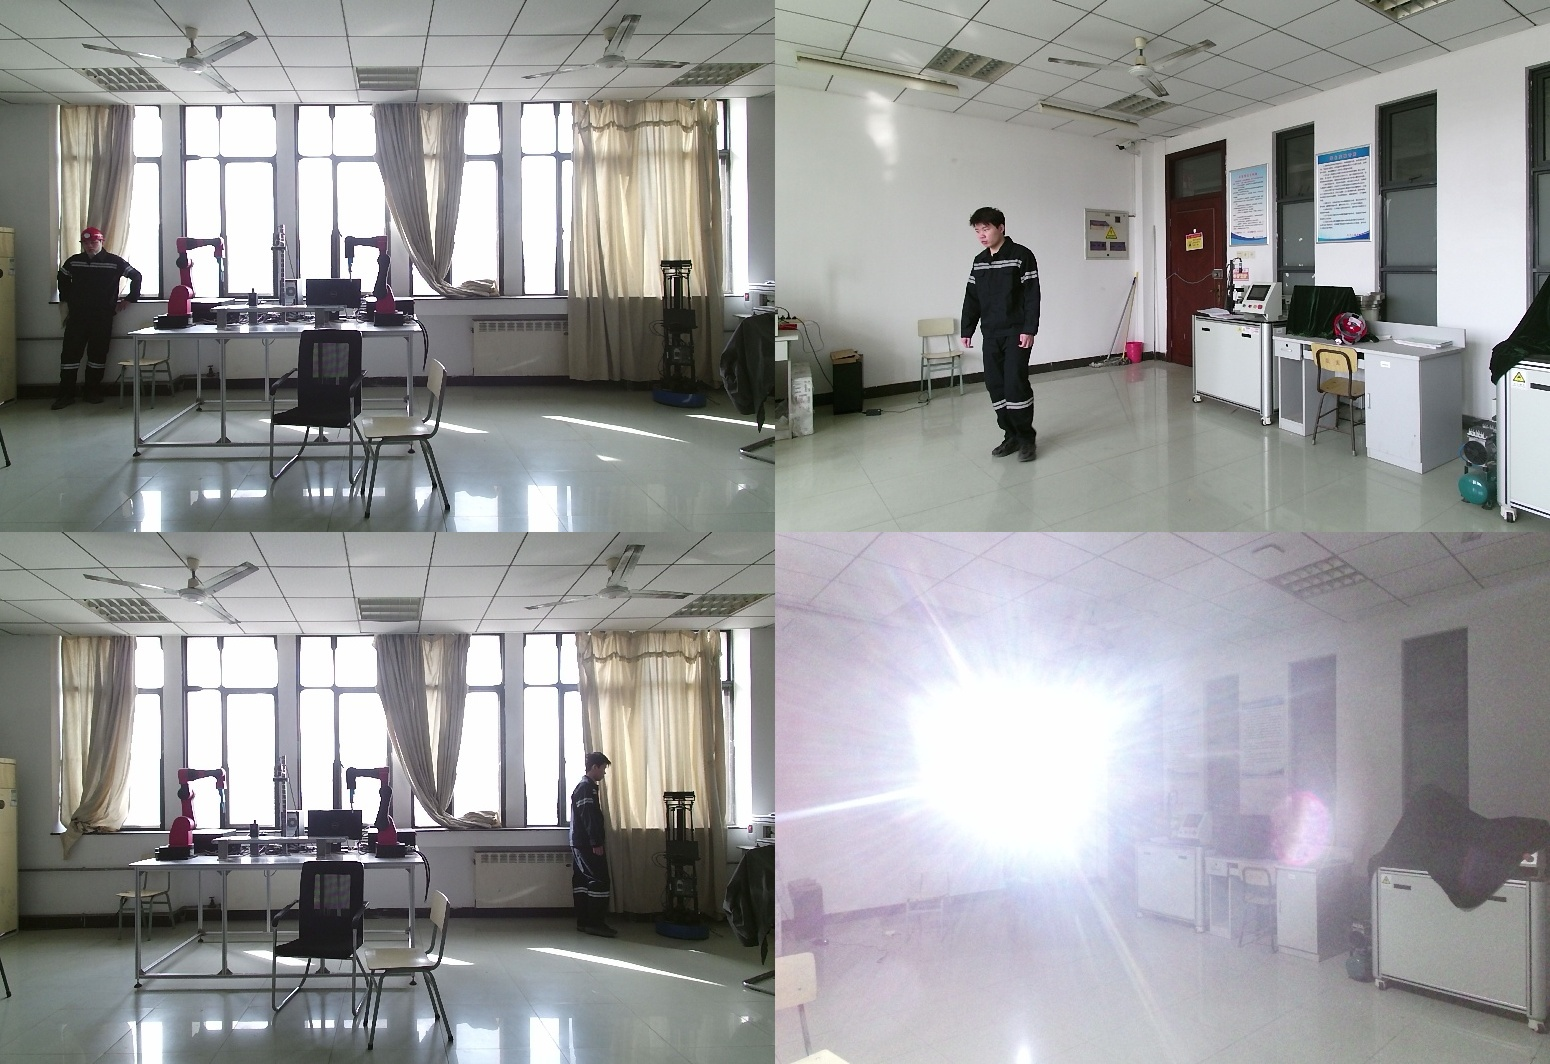person: (962, 207, 1064, 458), (53, 226, 142, 404), (571, 753, 636, 942), (994, 763, 1049, 915)
